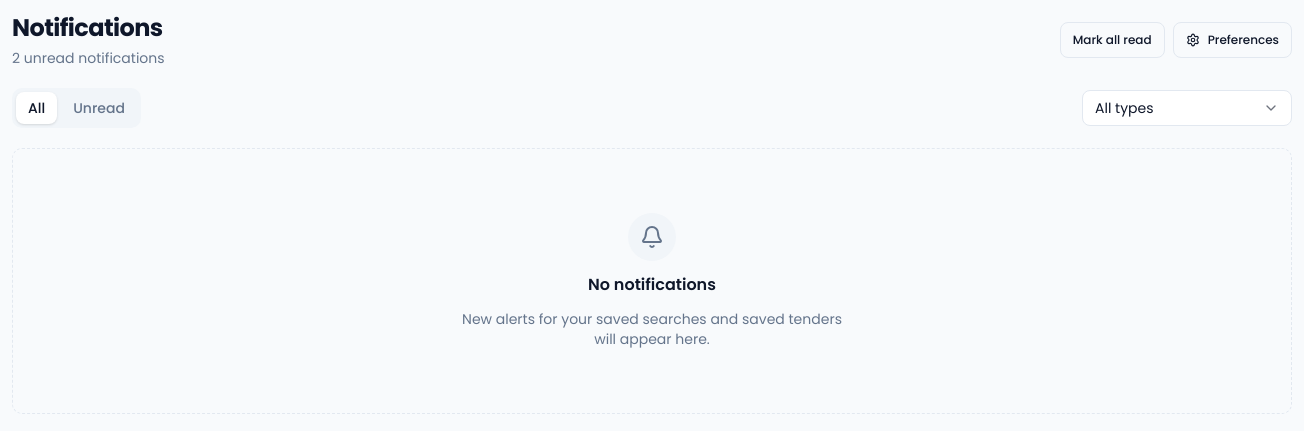
it: Notifications page › empty state, and an unread-only tab that queries the server
Expected: the heading "No notifications" is shown, [588,273,716,297]
Click the tab "Unread" at (99, 108), box [61,92,137,124]
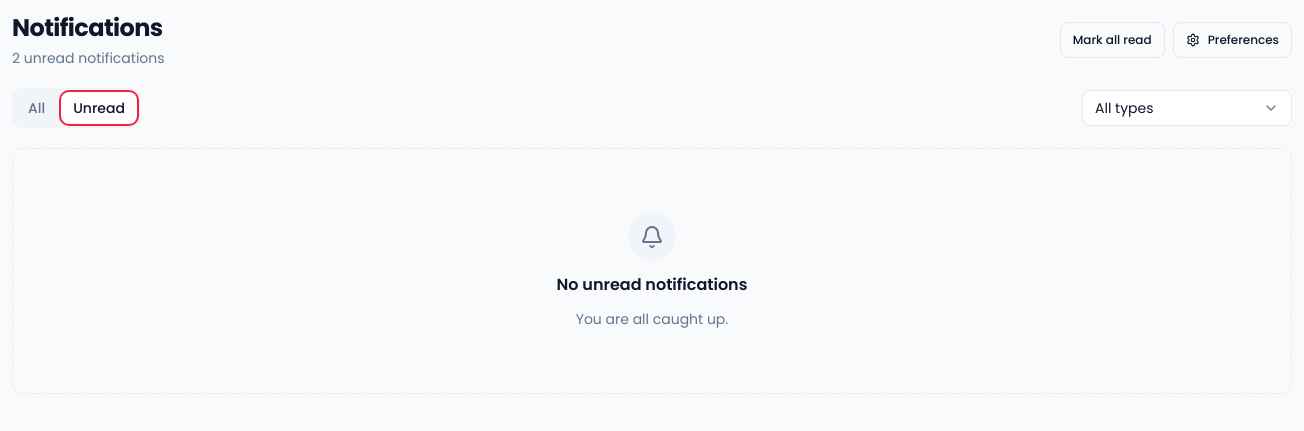
Expected: the heading "No unread notifications" is shown, [557,273,747,297]
